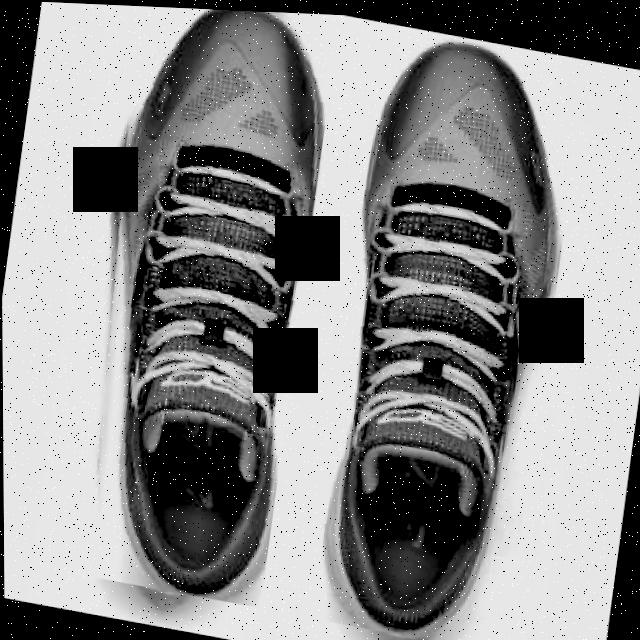shoe: (304, 17, 591, 640), (57, 2, 342, 609)
